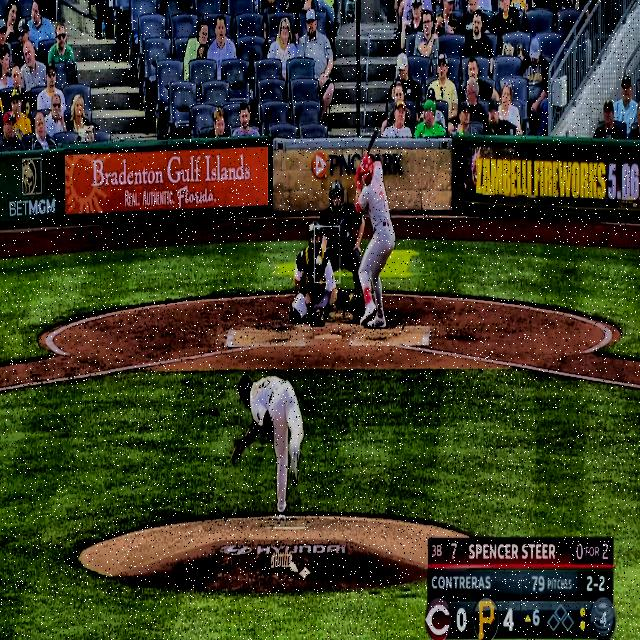baseball: (315, 255, 322, 268)
